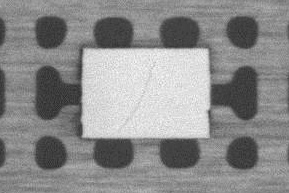DIE_CRACK: (116, 62, 157, 132)
